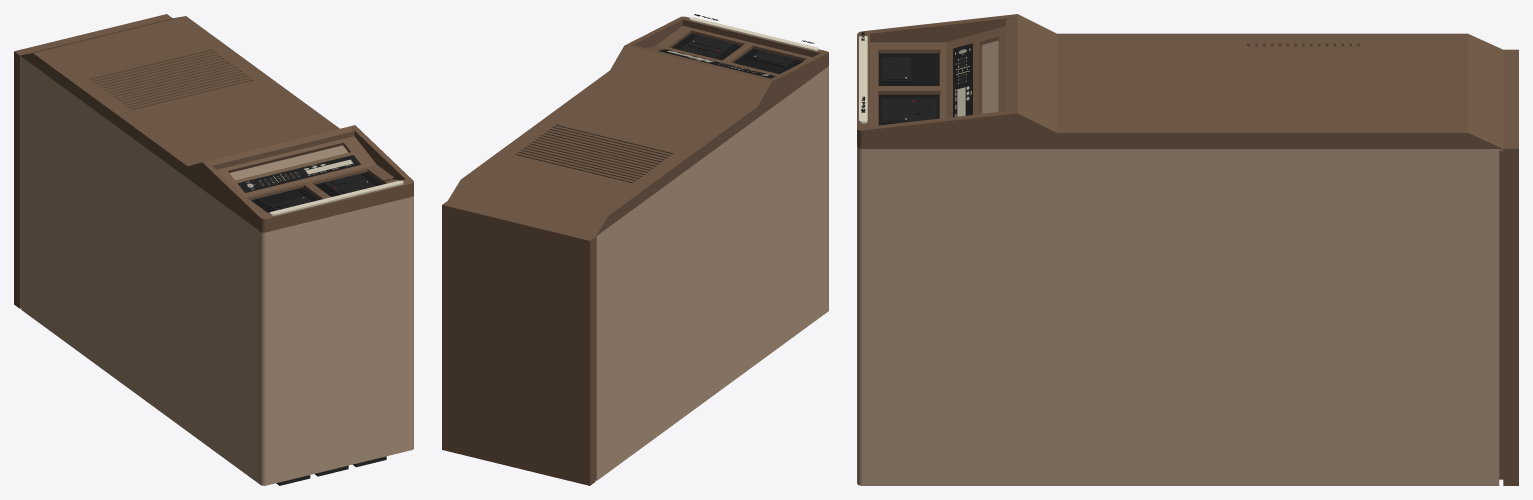
The picture shows the model from 3 angles, left to right: view 1: azimuth 30°, elevation 25°; view 2: azimuth 150°, elevation 25°; view 3: azimuth 270°, elevation 25°; orthographic projection. The views are drawn at different scales.
Visible parts, largest first — view 1: SidePanelLeft, TopPanel, LowerFront, FrontPanel, BaseFrame, ButtonPlate, DisplayStrip, Badge, BayPanelRight; view 2: SidePanelLeft, BaseFrame, LowerFront, FrontPanel, Badge, BayPanelRight, TopPanel, TapeDrive2; view 3: SidePanelRight, LowerFront, FrontPanel, BaseFrame, TopPanel, CoreFrame, BayPanelRight, DisplayStrip, ButtonPlate, TapeDrive2, Badge, TapeDrive.
Part boxes in pixels (x1,y1,x2,y2): SidePanelLeft: (21, 57, 258, 483); TopPanel: (259, 196, 413, 485); LowerFront: (20, 16, 339, 188); FrontPanel: (202, 125, 413, 232); BaseFrame: (14, 14, 172, 308); ButtonPlate: (238, 155, 360, 192); DisplayStrip: (229, 145, 347, 180); Badge: (270, 180, 403, 215); BayPanelRight: (251, 187, 320, 212); SidePanelLeft: (595, 68, 826, 480); BaseFrame: (442, 201, 595, 485); LowerFront: (448, 45, 771, 236); FrontPanel: (625, 16, 828, 107); Badge: (689, 17, 818, 51); BayPanelRight: (733, 48, 803, 74); TopPanel: (827, 66, 828, 311); TapeDrive2: (750, 50, 795, 67); SidePanelRight: (867, 149, 1499, 485); LowerFront: (1017, 14, 1503, 148); FrontPanel: (857, 14, 1017, 148); BaseFrame: (1503, 49, 1518, 485); TopPanel: (857, 146, 866, 485); CoreFrame: (1499, 149, 1503, 479); BayPanelRight: (878, 53, 939, 85); DisplayStrip: (982, 40, 998, 113); ButtonPlate: (953, 43, 972, 116); TapeDrive2: (882, 57, 911, 82); Badge: (859, 35, 867, 123); TapeDrive: (882, 98, 911, 124).
Size of the model in its own units: 600 by 1085 by 1690.
